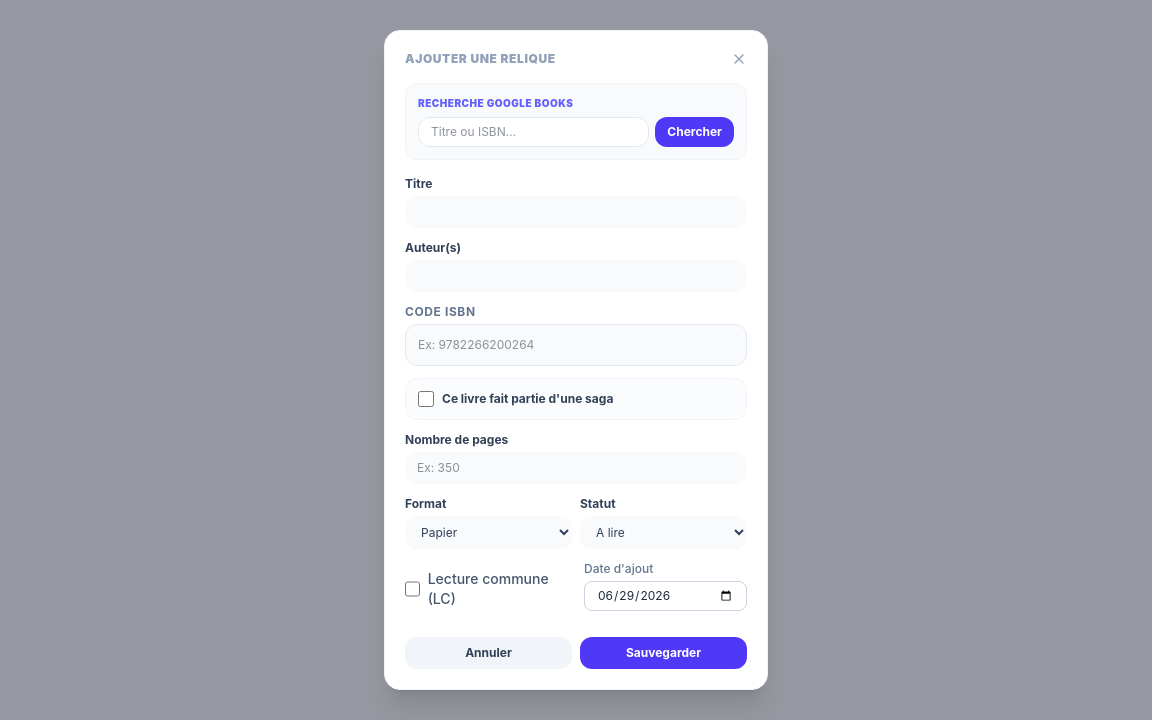
Test case: Component - BookFormModal › devrait permettre de chercher un livre via Google Books et pré-remplir les champs
Check: the heading "Ajouter une relique" is shown, box [405, 51, 556, 67]
Simuler la saisie dans le champ de recherche Google Books
In the field with placeholder "Titre ou ISBN...": (534, 132) [418, 117, 649, 147], type "Valérie Perrin"
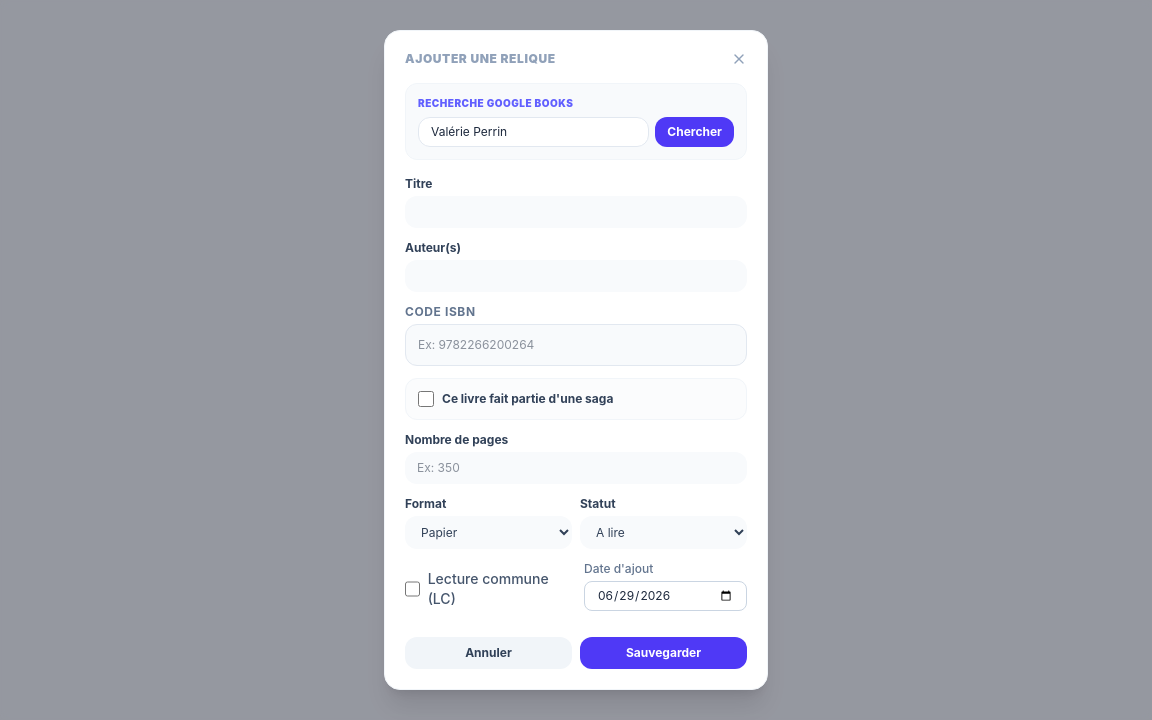
Cliquer sur le bouton "Chercher"
Click the button "Chercher": (695, 132) [655, 117, 734, 147]
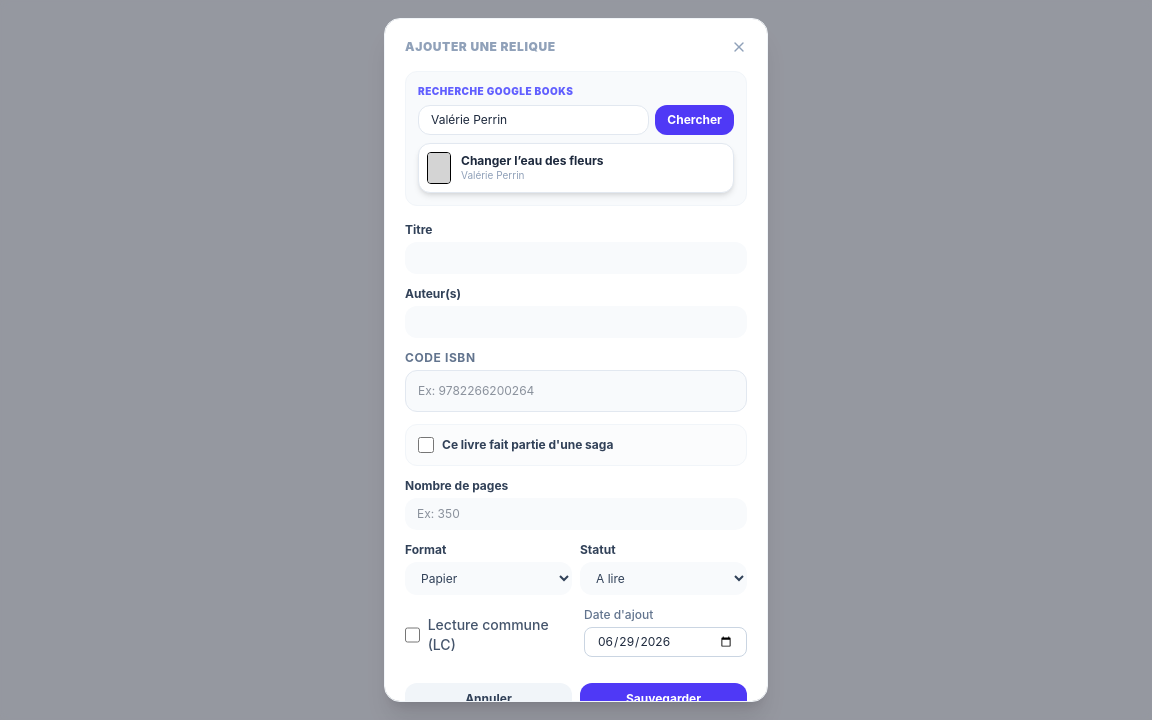
Check: the text "Changer l’eau des fleurs" is shown, box [461, 153, 604, 169]
Sélectionner la suggestion
Click the button "Changer l’eau des fleurs Valérie Perrin": (576, 168) [419, 144, 733, 192]
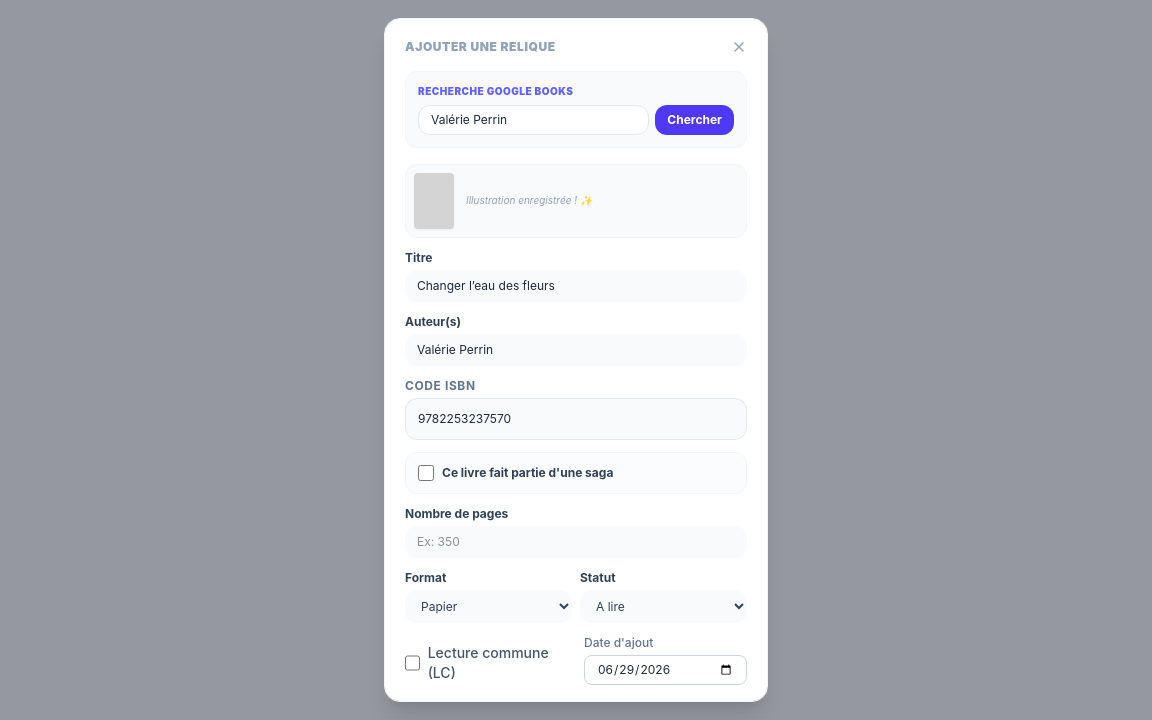
Check: the field labelled "Titre" holds "Changer l’eau des fleurs", box [405, 270, 747, 302]
Check: the field labelled "Auteur(s)" holds "Valérie Perrin", box [405, 334, 747, 366]
